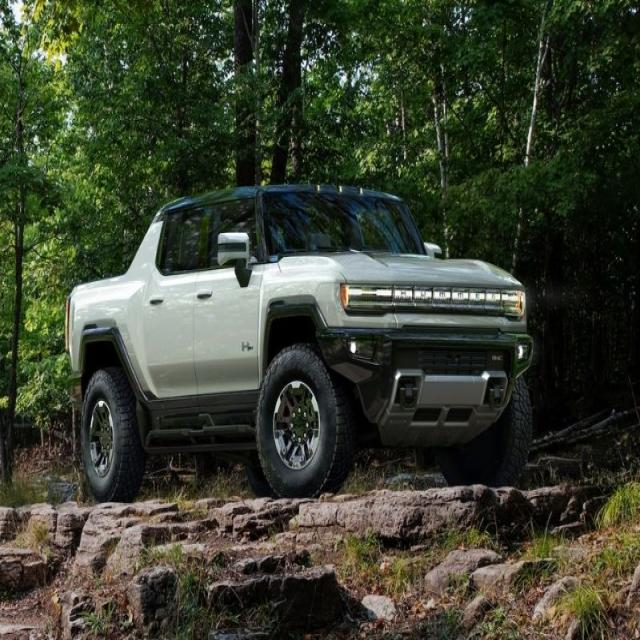Pickup Trucks: (66, 188, 534, 496)
